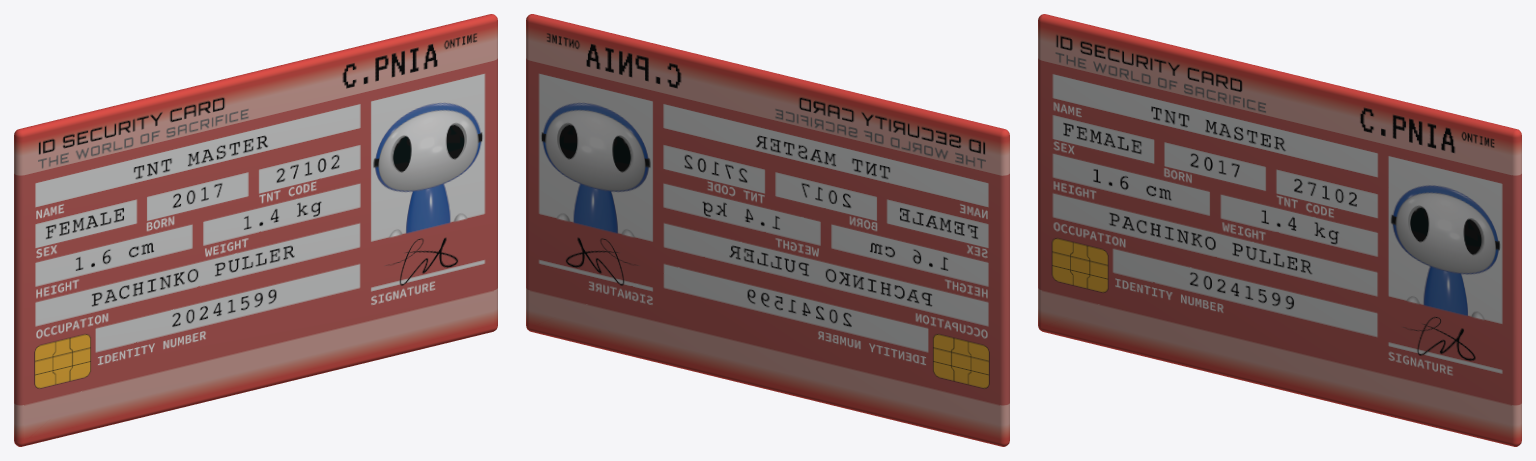
Rendered from sacrifice.gltf.
The picture shows the model from 3 angles, left to right: view 1: azimuth 30°, elevation 25°; view 2: azimuth 150°, elevation 25°; view 3: azimuth 330°, elevation 25°; orthographic projection.
Parts seen in each view (by area): view 1: Cube; view 2: Cube; view 3: Cube.
Part boxes in pixels (box(x1,y1,x2,y2)): Cube: box(14, 14, 497, 446); Cube: box(526, 14, 1009, 446); Cube: box(1038, 14, 1521, 446).
Size of the model in its own units: 0.086 by 0.054 by 0.00202.
1 material, 1 textured.
